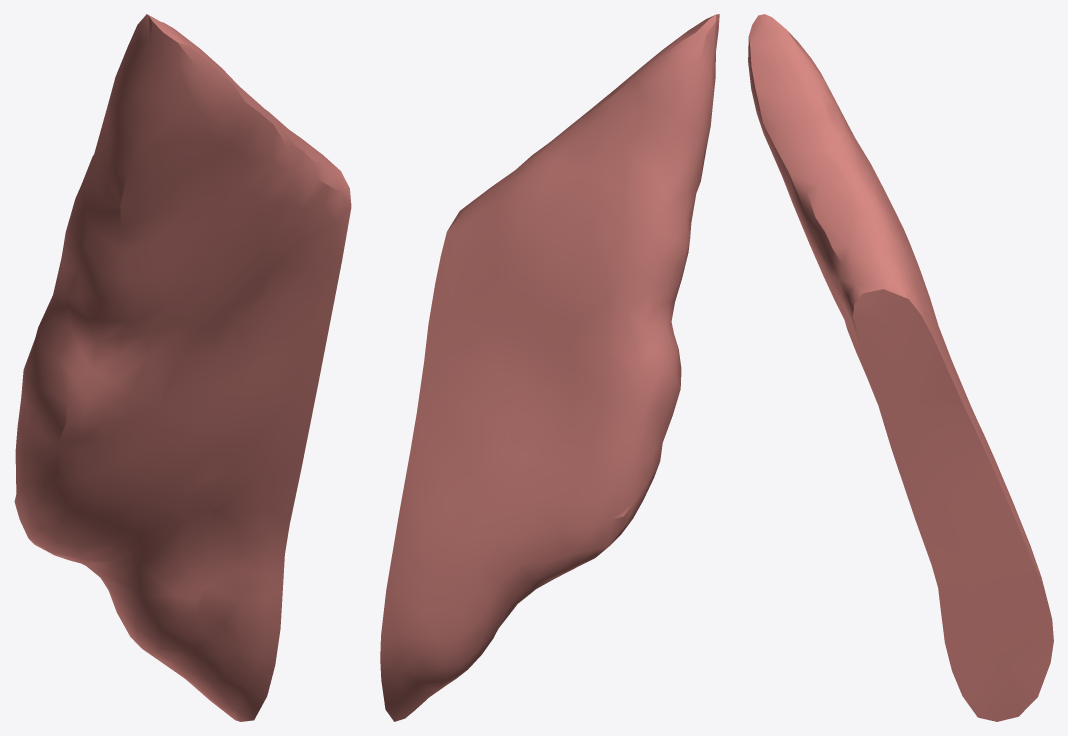
The model's file is fma301566_mm4011.glb.
The picture shows the model from 3 angles, left to right: view 1: azimuth 30°, elevation 25°; view 2: azimuth 150°, elevation 25°; view 3: azimuth 270°, elevation 25°; orthographic projection. The views are drawn at different scales.
Parts seen in each view (by area): view 1: FMA301566_MM4011; view 2: FMA301566_MM4011; view 3: FMA301566_MM4011.
Part boxes in pixels (x1,y1,x2,y2): FMA301566_MM4011: [14, 14, 351, 721]; FMA301566_MM4011: [380, 14, 719, 721]; FMA301566_MM4011: [748, 14, 1053, 721].
Size of the model in its own units: 0.014 by 0.0405 by 0.0181.
